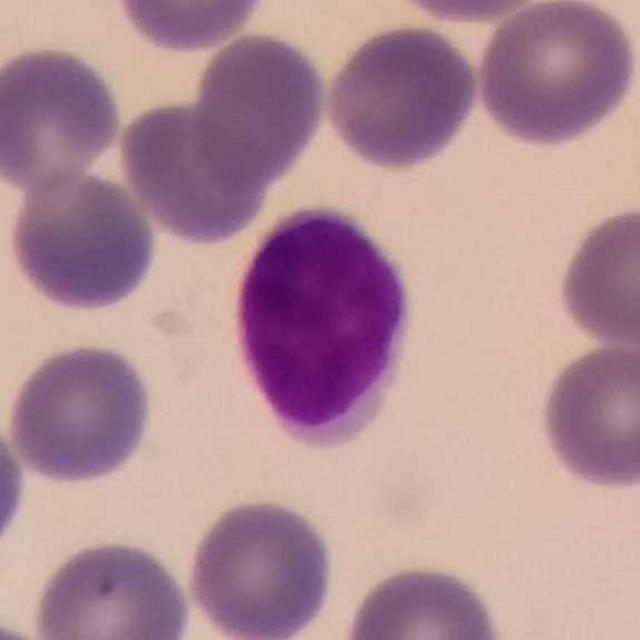Lymphocyte: (225, 198, 421, 452)
RBC: (321, 20, 484, 174), (473, 0, 639, 149), (115, 94, 275, 247), (3, 166, 162, 315), (188, 27, 331, 190), (182, 493, 340, 640), (4, 338, 157, 486), (0, 40, 126, 194), (29, 534, 195, 640), (535, 338, 640, 494), (338, 560, 509, 640), (554, 200, 640, 353), (109, 0, 272, 55), (0, 406, 30, 562), (380, 0, 558, 26)
